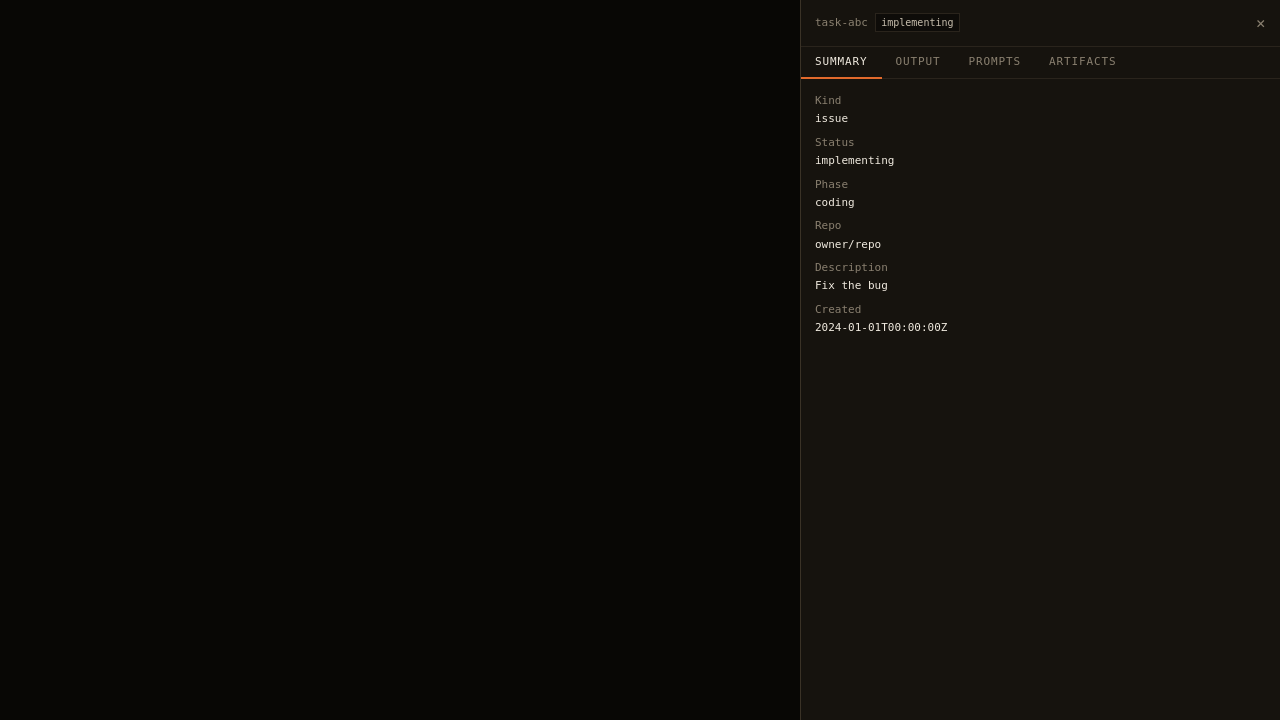
Scenario: TaskDetailSlideover › renders a clear empty state when no prompts are recorded
Step 1. Click the button "prompts" → (995, 63), box [954, 46, 1035, 79]
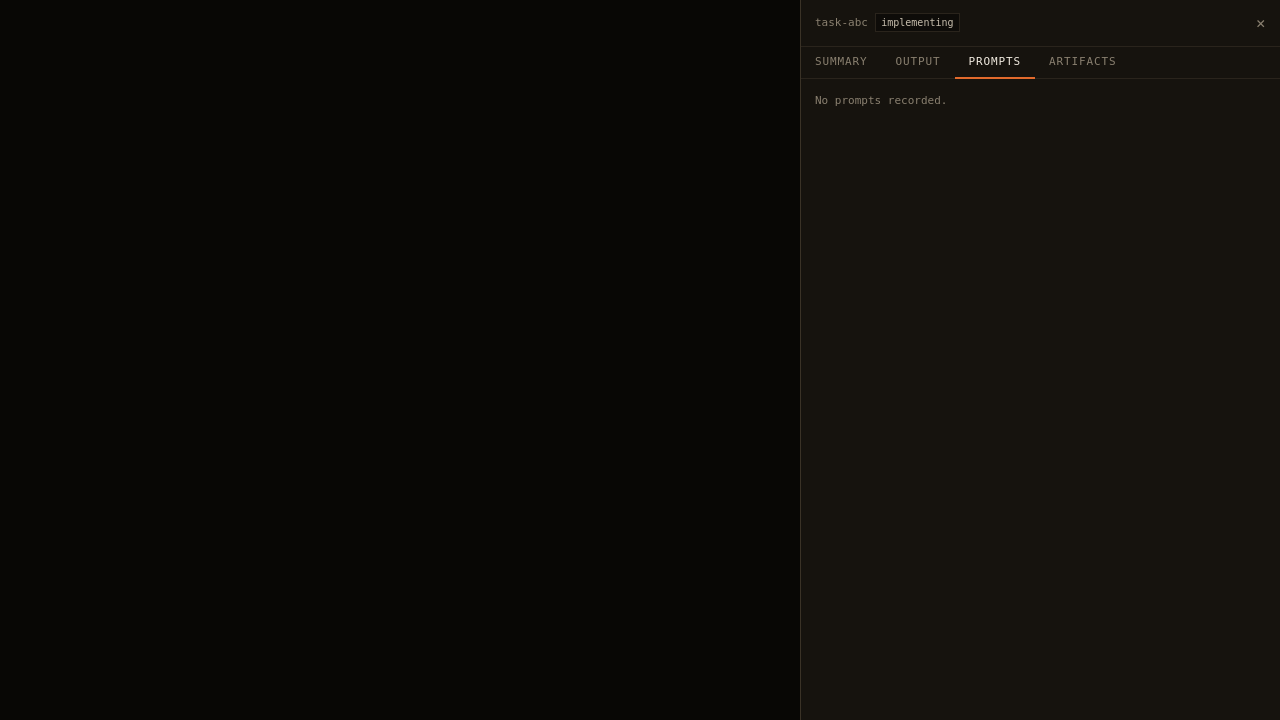
Expected: the text "No prompts recorded." is shown, [815, 94, 948, 107]
